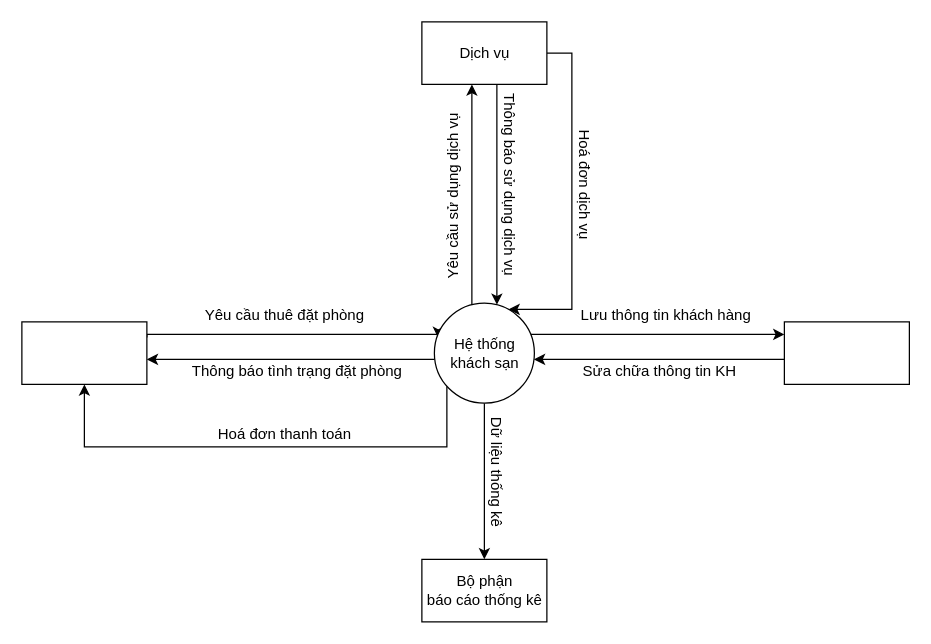
Some shapes in this 931 by 644 pixel diagram are drawn without their labels. The shapes that lost their labels are listed below. From the top down, each one's centre as x and y in pixels, then its label:
[84,352]: Khách hàng
[846,352]: Bộ phận quản lí dịch vụ
